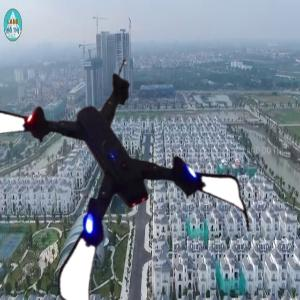drone: (9, 63, 247, 300)
